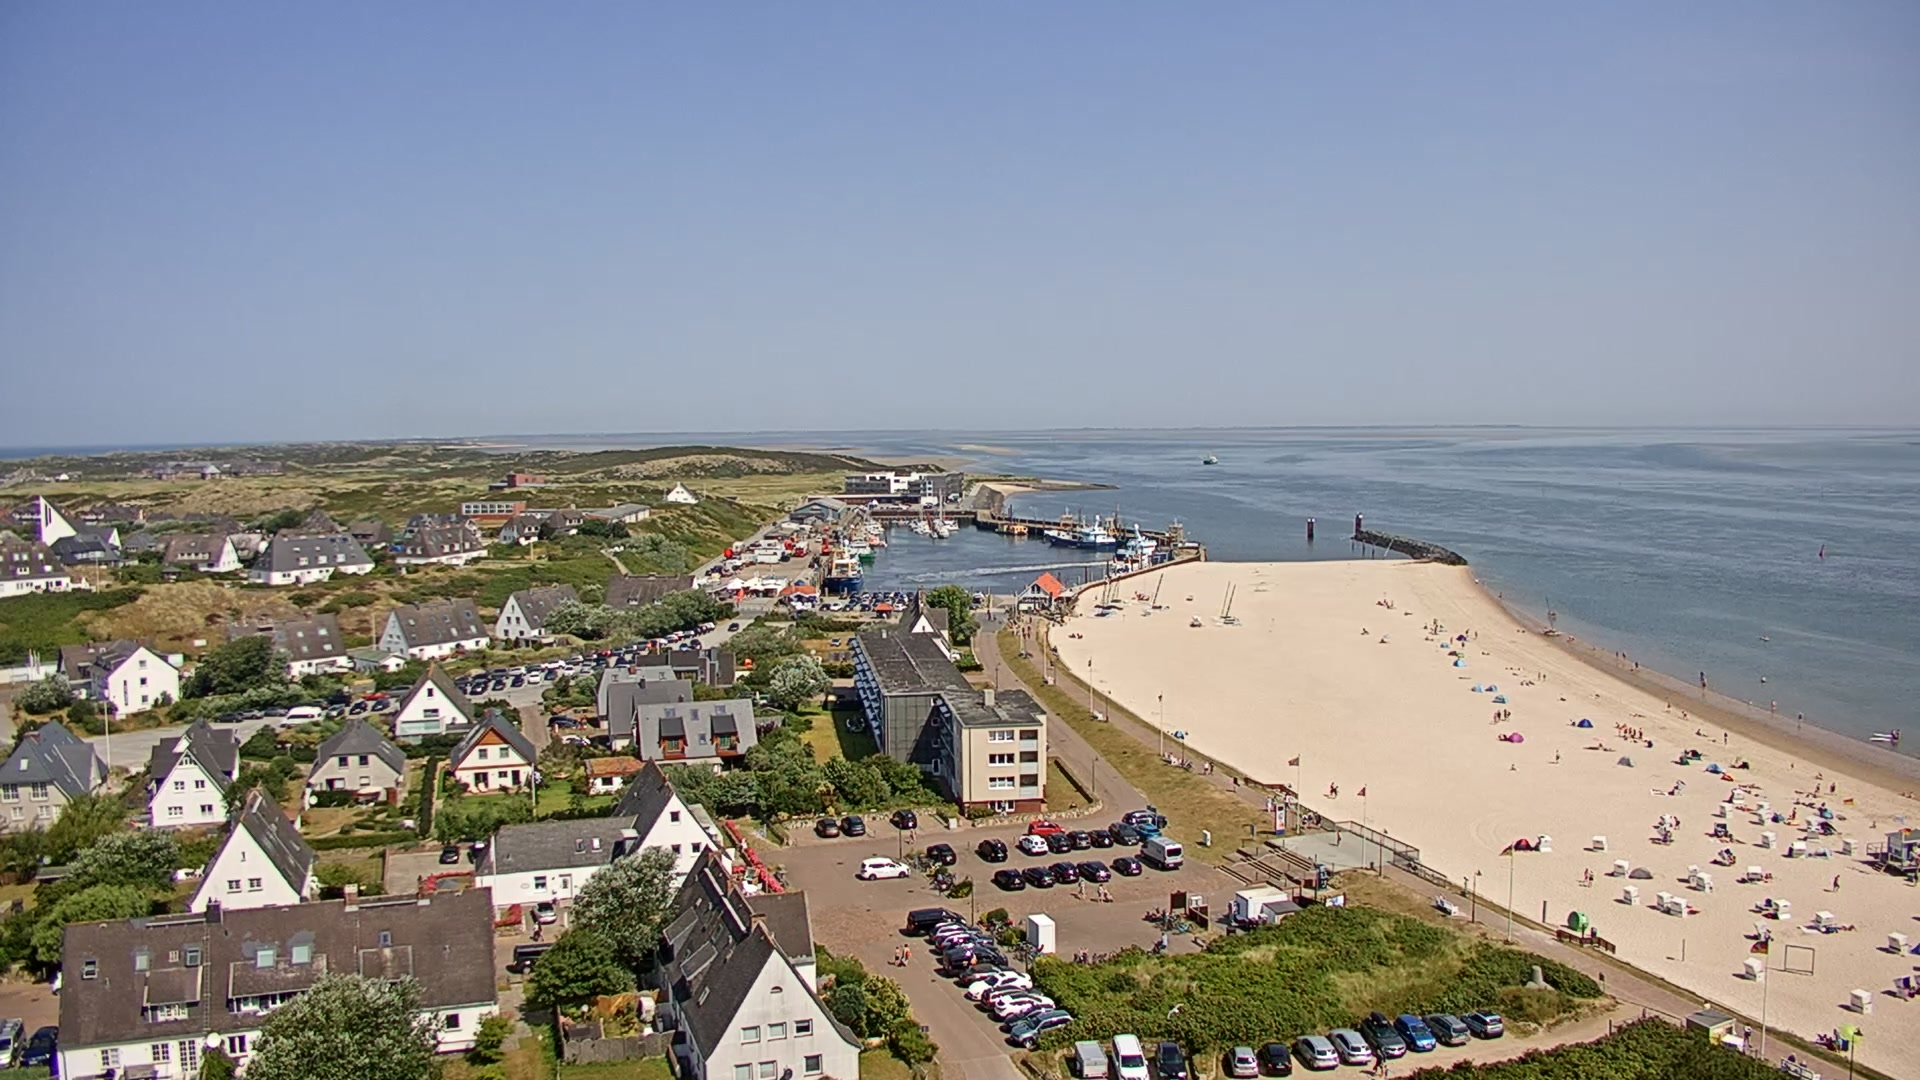human: (1371, 1050, 1384, 1077), (1271, 791, 1289, 812), (900, 943, 911, 967), (1833, 1027, 1844, 1053), (531, 919, 543, 941), (1742, 1024, 1753, 1050), (1077, 876, 1086, 898), (1304, 807, 1314, 828), (1894, 727, 1903, 746), (908, 826, 918, 845), (1097, 883, 1105, 902), (1833, 873, 1841, 892), (893, 945, 900, 967), (1265, 795, 1272, 812), (1233, 775, 1241, 793), (1438, 892, 1446, 906), (1160, 931, 1168, 947), (1554, 748, 1561, 764), (1298, 811, 1304, 830), (1588, 869, 1594, 886), (1336, 828, 1342, 845), (1584, 866, 1590, 884), (1700, 670, 1707, 687), (1329, 780, 1336, 797), (1791, 805, 1798, 820), (1799, 1059, 1808, 1069), (1202, 760, 1209, 774), (1673, 815, 1680, 830), (1829, 780, 1836, 795), (1494, 708, 1501, 721), (1622, 725, 1628, 738), (1788, 1052, 1797, 1062), (1455, 633, 1466, 640), (1664, 697, 1670, 712), (1464, 627, 1470, 637), (1209, 760, 1215, 773), (1335, 784, 1340, 798), (1315, 813, 1321, 824), (1815, 782, 1821, 792), (1638, 726, 1643, 738), (1634, 660, 1639, 671), (1724, 731, 1729, 743), (1695, 727, 1703, 735), (1798, 712, 1804, 721), (1474, 629, 1479, 639), (1502, 708, 1507, 719), (1631, 727, 1637, 737), (1498, 591, 1503, 600), (1506, 709, 1511, 719), (1682, 710, 1688, 719), (1789, 761, 1795, 770), (1621, 651, 1626, 661), (1432, 617, 1438, 625), (1433, 626, 1439, 634), (1622, 651, 1627, 660), (1681, 709, 1686, 718), (1537, 671, 1541, 680), (1615, 650, 1619, 659), (1460, 641, 1465, 648), (1543, 672, 1547, 680), (1629, 726, 1633, 734)
land: (1007, 1010, 1073, 1048), (1357, 1010, 1405, 1059), (942, 944, 1008, 977), (965, 968, 1032, 1000), (905, 905, 967, 937), (990, 990, 1057, 1018), (1109, 1033, 1149, 1079), (17, 1024, 58, 1068), (1393, 1012, 1437, 1051), (1326, 1027, 1371, 1066), (1292, 1032, 1339, 1069), (1422, 1012, 1473, 1045), (1140, 836, 1185, 871), (511, 943, 560, 975), (978, 984, 1034, 1010), (1004, 1003, 1059, 1030), (1, 1014, 26, 1069), (860, 855, 911, 881), (1154, 1039, 1188, 1079), (926, 921, 983, 944), (1459, 1010, 1505, 1039), (1073, 1040, 1107, 1080), (959, 962, 1017, 984), (1258, 1039, 1292, 1075), (935, 933, 994, 954), (277, 704, 323, 727), (1226, 1044, 1257, 1077), (1121, 810, 1169, 830), (1076, 859, 1112, 883), (1108, 821, 1140, 846), (1048, 860, 1081, 884), (926, 843, 957, 867), (977, 839, 1009, 862), (1021, 866, 1055, 887), (993, 868, 1026, 889), (453, 668, 490, 687), (1018, 832, 1049, 854), (1027, 818, 1065, 835), (1130, 822, 1163, 841), (562, 705, 599, 723), (1112, 857, 1143, 877), (1048, 829, 1073, 853), (838, 814, 865, 835), (889, 809, 918, 828), (531, 900, 557, 922), (1088, 828, 1116, 848), (467, 839, 488, 864), (1068, 827, 1091, 849), (814, 817, 839, 837), (380, 683, 413, 698), (440, 845, 460, 864), (561, 734, 591, 746), (214, 711, 243, 722), (549, 713, 577, 725), (238, 707, 264, 719), (465, 679, 486, 694), (349, 700, 368, 716), (307, 698, 330, 709), (264, 706, 289, 716), (793, 540, 809, 557), (325, 704, 345, 716), (551, 719, 578, 728), (489, 667, 509, 679), (541, 659, 566, 669), (565, 654, 585, 664), (371, 697, 389, 710), (526, 670, 541, 684), (365, 690, 385, 700), (560, 664, 577, 676), (579, 661, 596, 672), (508, 665, 526, 675), (525, 663, 546, 672), (731, 541, 745, 554), (636, 640, 652, 652), (491, 678, 505, 690), (510, 674, 525, 686), (622, 643, 638, 654), (596, 657, 609, 669), (544, 668, 557, 680), (615, 656, 626, 666), (665, 634, 678, 643), (681, 629, 694, 638), (597, 648, 610, 657), (583, 652, 596, 661), (706, 621, 716, 631), (727, 622, 739, 632), (829, 601, 841, 610), (612, 647, 625, 656), (861, 604, 872, 613), (872, 591, 883, 599), (690, 641, 702, 649), (679, 642, 691, 650), (696, 622, 706, 632), (820, 603, 831, 610), (807, 594, 817, 601), (843, 603, 852, 611), (672, 630, 682, 638), (849, 598, 858, 605), (861, 598, 870, 605), (884, 598, 892, 605), (851, 590, 859, 597), (906, 591, 914, 599), (838, 592, 846, 599), (861, 591, 870, 598), (894, 591, 903, 597), (897, 598, 905, 604), (884, 591, 892, 598)
sea: (1041, 504, 1125, 549), (1107, 522, 1175, 570), (823, 539, 863, 592), (1210, 580, 1239, 625), (934, 485, 951, 538), (1094, 576, 1118, 610), (1147, 572, 1166, 610), (1092, 582, 1112, 617), (912, 502, 934, 535), (847, 539, 875, 557), (994, 522, 1029, 535), (1109, 574, 1123, 604), (938, 516, 959, 532), (1201, 453, 1219, 465), (1818, 543, 1825, 561)
